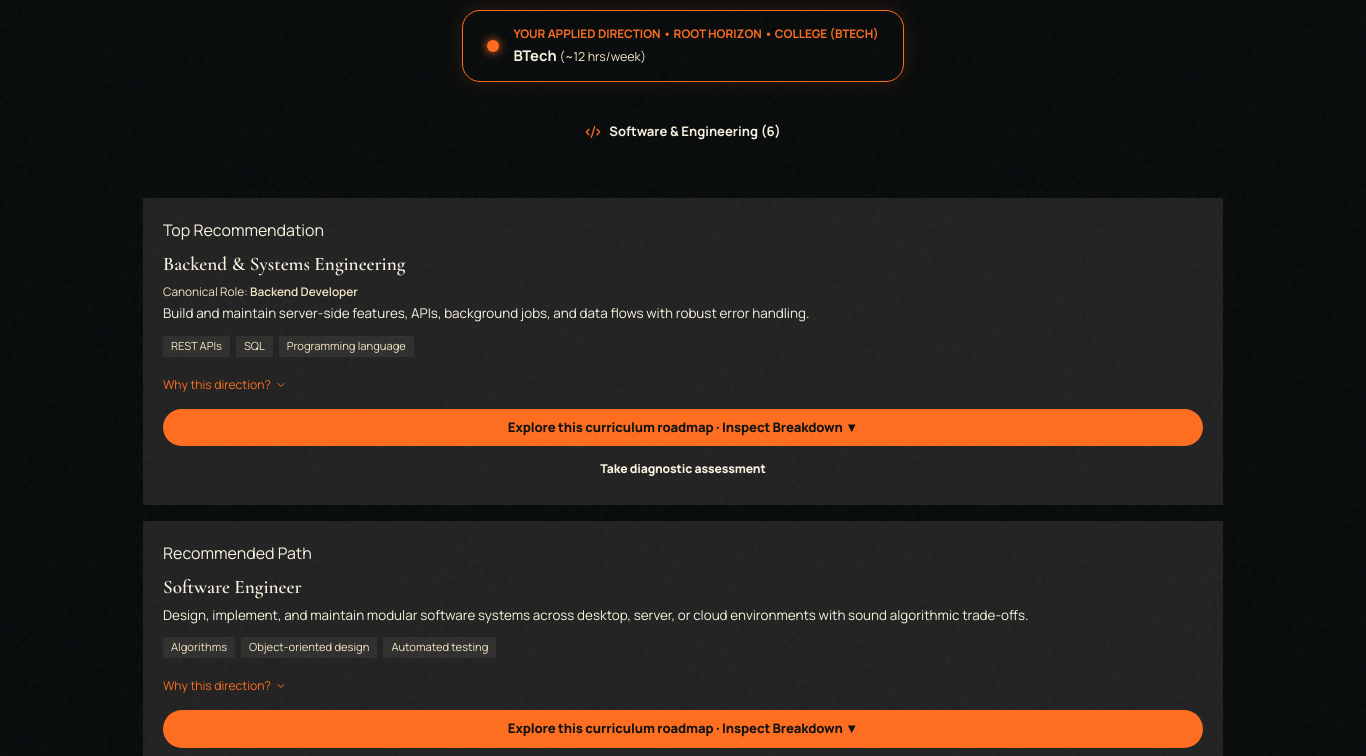
Test: Prompt 4: Clean Paths Page, Top-to-Bottom Branching Visualization & State Decoupling › 3. Renders clean, compact direction nodes without simultaneously dumping 8 criteria or full curriculum
(page scrolled)
Expected: the text "YOUR APPLIED DIRECTION • ROOT HORIZON • College (BTech)" is shown, 513,24 -> 879,42
Expected: the heading "Software Engineer" is shown, 163,575 -> 302,599
// Clicking toggle expands concise reasoning
Click the button "Why this direction?" below "REST APIs" at (225, 385), box 163,376 -> 287,394
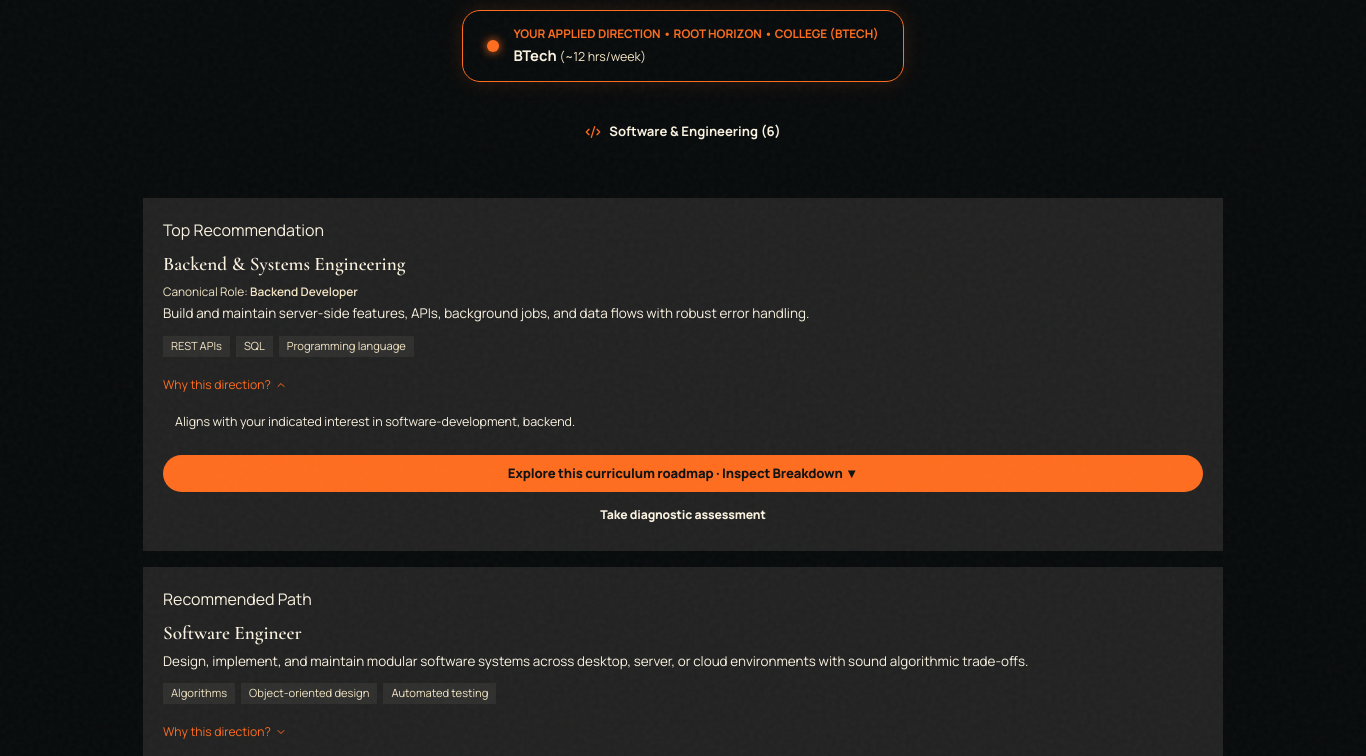
Now the button "Why this direction?" below "REST APIs" is expanded, box 163,376 -> 287,394
